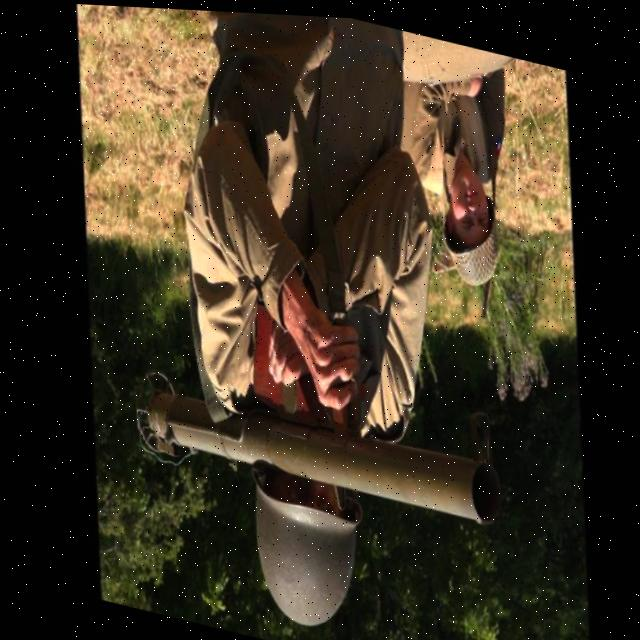rocket: (104, 310, 523, 587)
